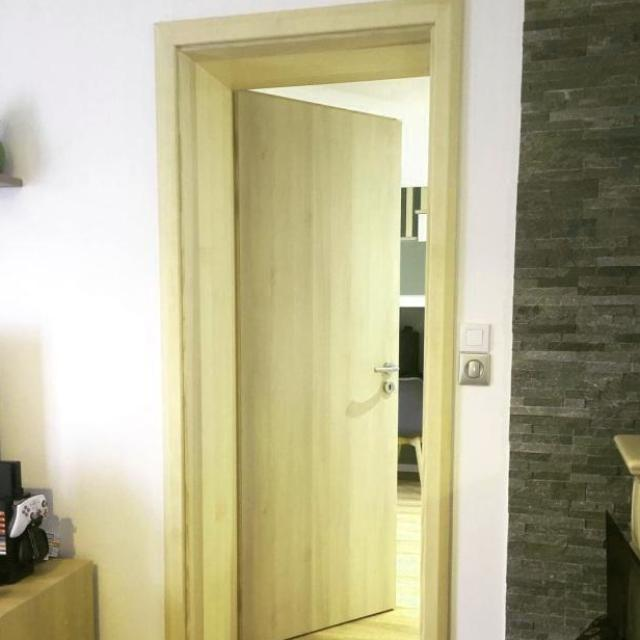door: (232, 88, 401, 638)
